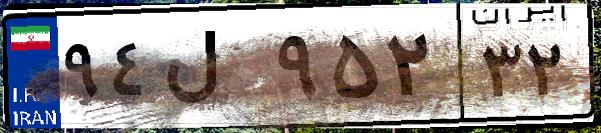2: (385, 28, 445, 110), (525, 38, 570, 115)
3: (475, 38, 525, 113)
4: (110, 28, 158, 98)
5: (330, 28, 385, 110)
9: (270, 28, 330, 110), (57, 26, 110, 100)
ل: (158, 20, 270, 120)
